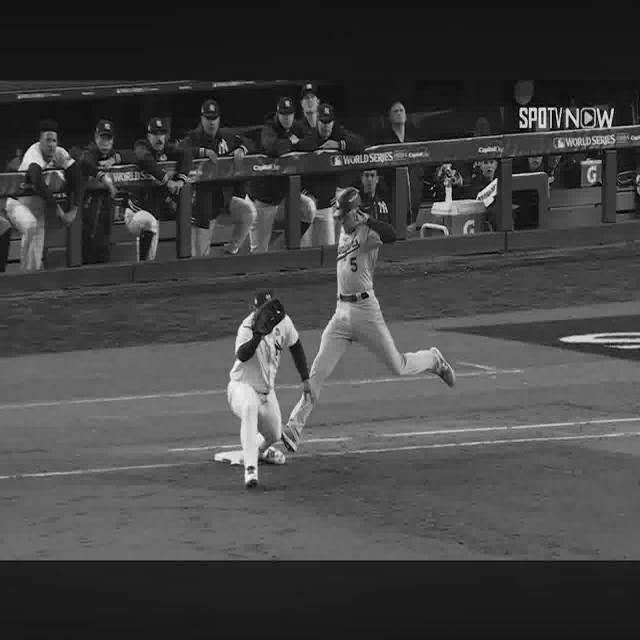base: (214, 450, 244, 465)
baseball: (341, 312, 349, 322)
baseball_glove: (252, 298, 285, 335)
shoe: (428, 348, 456, 387), (260, 447, 288, 465), (281, 425, 298, 452), (245, 467, 259, 488)
